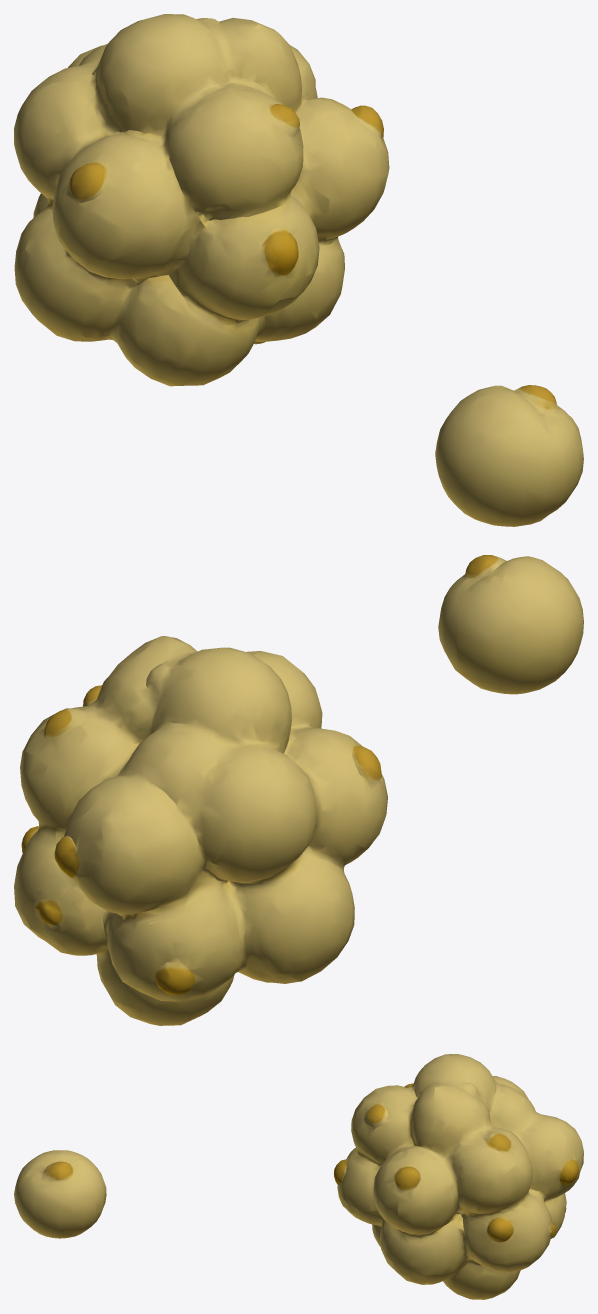
The model's file is fat_1k.glb.
The picture shows the model from 3 angles, top to bottom: view 1: azimuth 30°, elevation 25°; view 2: azimuth 150°, elevation 25°; view 3: azimuth 270°, elevation 25°; orthographic projection. The views are drawn at different scales.
Visible parts, largest first — view 1: tripo_node_ad41b2f0-f5ca-4ae6-99e3-9d50d212d34d_0; view 2: tripo_node_ad41b2f0-f5ca-4ae6-99e3-9d50d212d34d_0; view 3: tripo_node_ad41b2f0-f5ca-4ae6-99e3-9d50d212d34d_0.
Boxes of the visible parts, x1,y1,x2,y2 form: tripo_node_ad41b2f0-f5ca-4ae6-99e3-9d50d212d34d_0: [14, 14, 583, 526]; tripo_node_ad41b2f0-f5ca-4ae6-99e3-9d50d212d34d_0: [14, 555, 583, 1025]; tripo_node_ad41b2f0-f5ca-4ae6-99e3-9d50d212d34d_0: [14, 1054, 583, 1299].
Size of the model in its own units: 0.3947 by 0.4396 by 1.
1 material, 1 textured.
